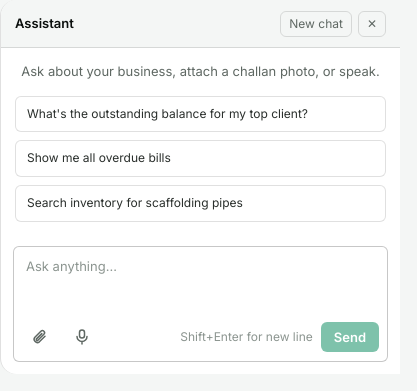
Test: AssistantPanel › shows an error result
In the text box named "Message the assistant": (200, 284) [22,255,379,313], type "hi"
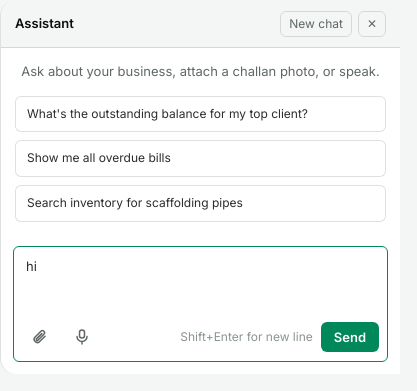
Click the button "Send": click(350, 337) [321,322,379,352]
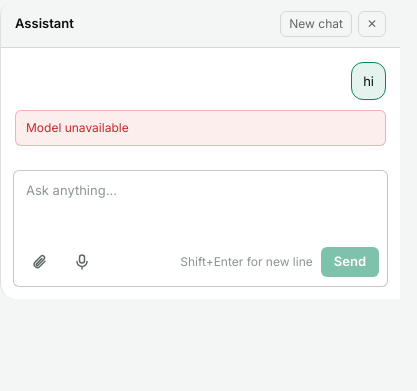
Result: the text "Model unavailable" is shown at [15,110,386,146]
